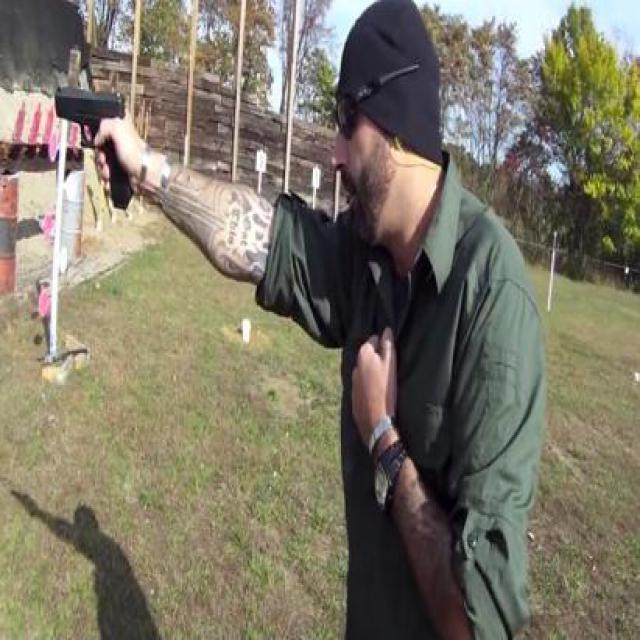gun: (49, 82, 132, 208)
